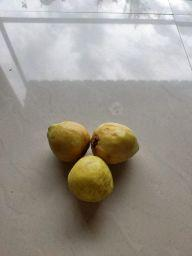guava: (65, 153, 118, 205), (92, 122, 144, 165), (46, 120, 90, 164)
